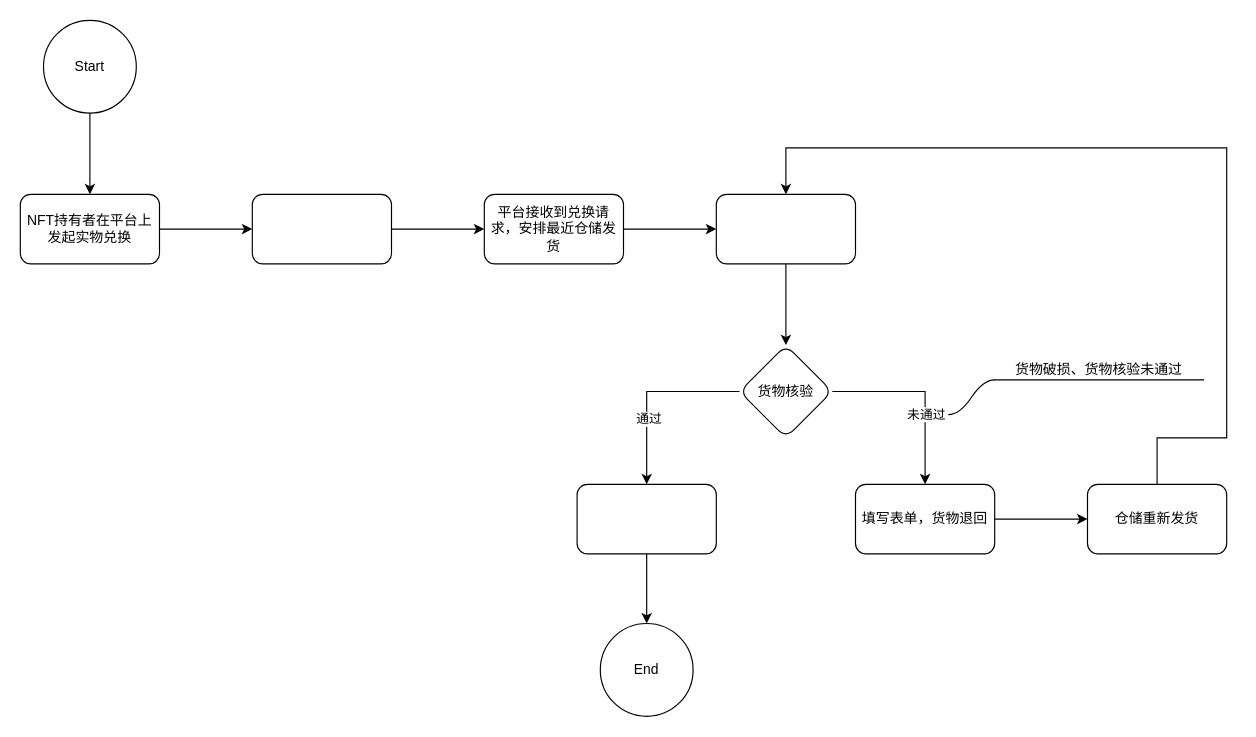
The diagram is 1256 pixels wide and 737 high, and some of its shapes have lost their labels. The shapes that lost their labels are listed below. From the top down, each one's centre as x and y in pixels, then its label:
At (x=321, y=228): "填写实物兑换表单，确认兑换，NFT将与实物解绑".
At (x=785, y=228): "持有者收到货物".
At (x=646, y=518): "确认收货".
